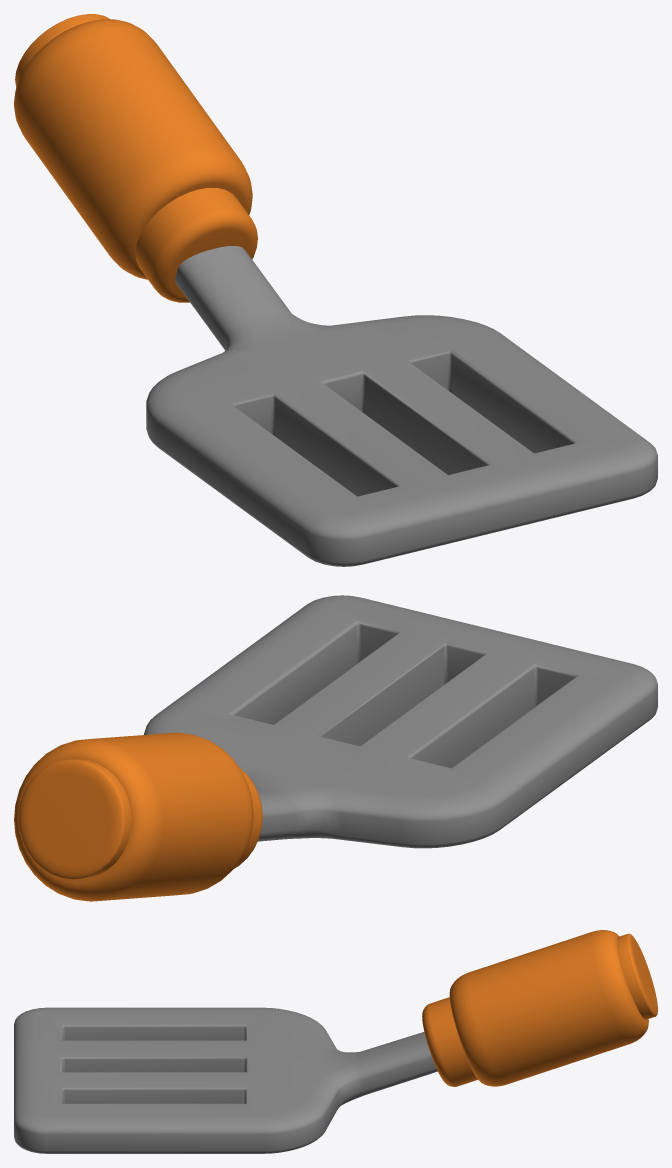
The model's file is tawa_spoon.glb.
3 renders of one model, top to bottom at view 1: azimuth 30°, elevation 25°; view 2: azimuth 150°, elevation 25°; view 3: azimuth 270°, elevation 25°, orthographic. The views are drawn at different scales.
Visible parts, largest first — view 1: Cube.001; view 2: Cube.001; view 3: Cube.001.
Boxes of the visible parts, x1,y1,x2,y2 form: Cube.001: [14, 14, 657, 566]; Cube.001: [14, 595, 657, 901]; Cube.001: [14, 930, 657, 1153].
Size of the model in its own units: 5 by 3.04 by 11.
